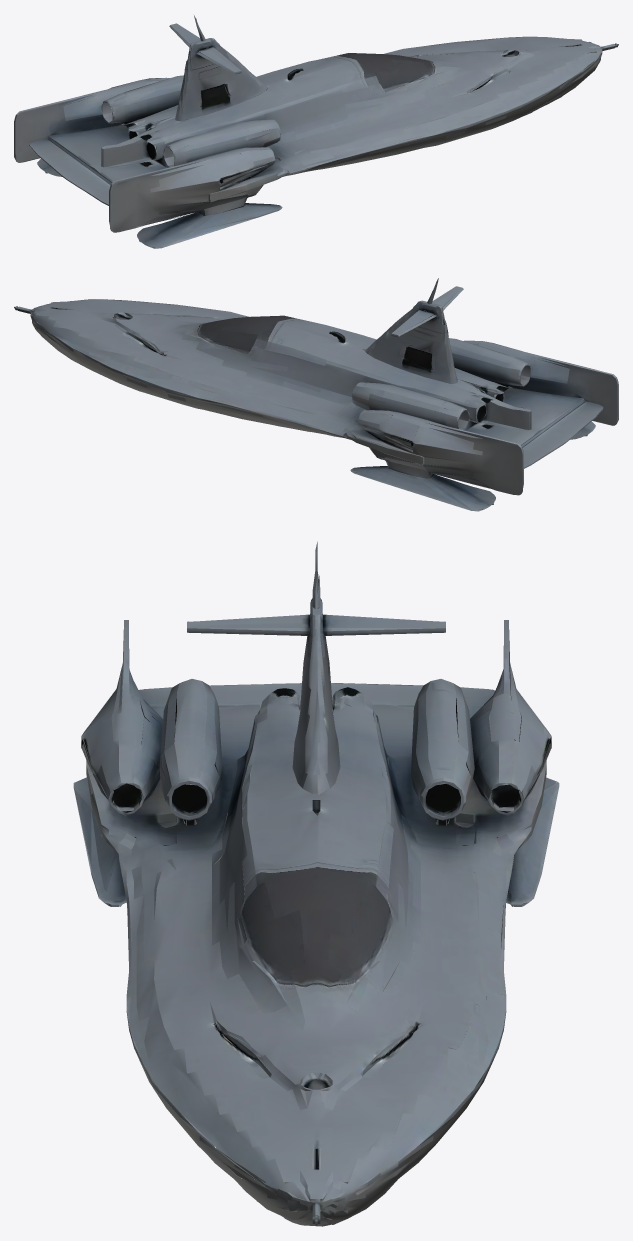
The model's file is stingray_LOD1.glb.
3 renders of one model, top to bottom at view 1: azimuth 30°, elevation 25°; view 2: azimuth 150°, elevation 25°; view 3: azimuth 270°, elevation 25°, orthographic. The views are drawn at different scales.
Parts seen in each view (by area): view 1: stingray_LOD1; view 2: stingray_LOD1; view 3: stingray_LOD1.
Part boxes in pixels (<box>): stingray_LOD1: <box>14,15,618,248</box>; stingray_LOD1: <box>14,278,618,511</box>; stingray_LOD1: <box>73,541,559,1226</box>.
Size of the model in its own units: 1 by 0.3009 by 0.3777.
1 material, 1 textured.
